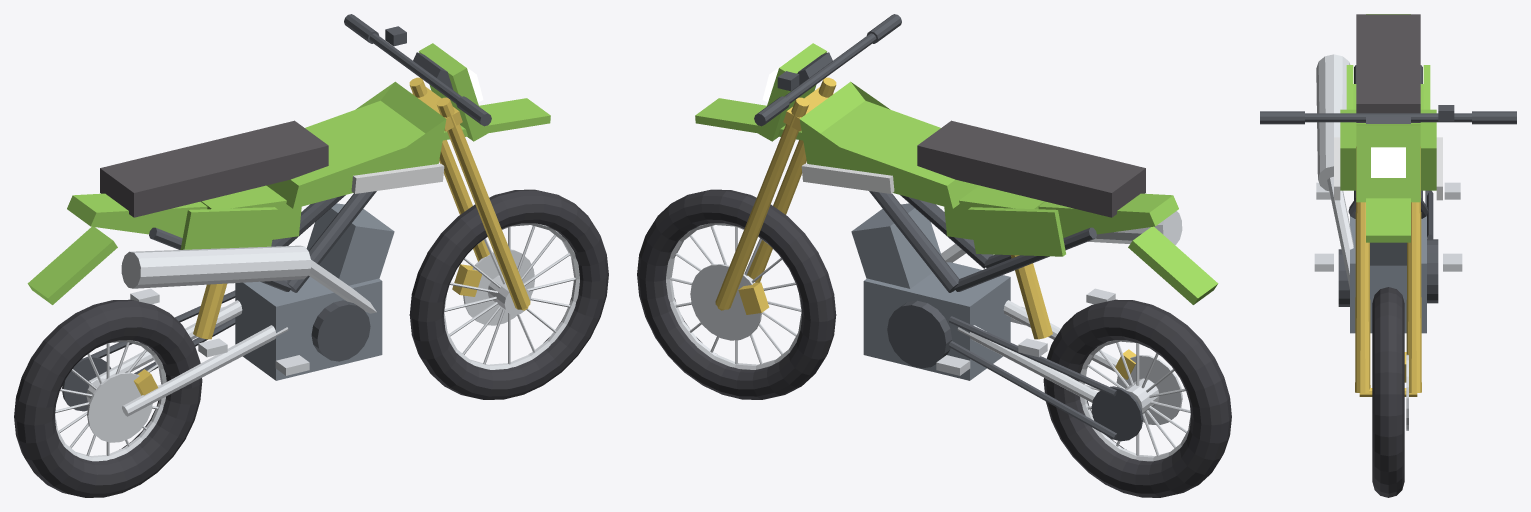
The model's file is kawasaki-klx-150-2019-2026.glb.
The picture shows the model from 3 angles, left to right: view 1: azimuth 30°, elevation 25°; view 2: azimuth 150°, elevation 25°; view 3: azimuth 270°, elevation 25°; orthographic projection. The views are drawn at different scales.
Visible parts, largest first — view 1: Roda_Ban, Bodi_Utama, Jok_Motor, Mesin_Blok, Knalpot, Velg_Roda, Bodi_Depan, Suspensi_Depan, Piringan_Rem, Spakbor, Swing_Arm, Rangka (+7 smaller); view 2: Roda_Ban, Bodi_Utama, Mesin_Blok, Jok_Motor, Velg_Roda, Bodi_Depan, Suspensi_Depan, Piringan_Rem, Rangka, Spakbor, Rantai, Cover_Mesin (+7 smaller); view 3: Roda_Ban, Jok_Motor, Suspensi_Depan, Bodi_Depan, Knalpot, Mesin_Blok, Master_Rem_Stang, Bodi_Utama, Spakbor, Cover_Mesin, Footstep, Lampu_Depan (+3 smaller).
Part boxes in pixels (x1,y1,x2,y2): Roda_Ban: (14, 189, 608, 497); Bodi_Utama: (67, 81, 446, 239); Jok_Motor: (100, 120, 328, 217); Mesin_Blok: (235, 203, 394, 380); Knalpot: (121, 245, 376, 313); Velg_Roda: (55, 223, 579, 461); Bodi_Depan: (180, 43, 487, 249); Suspensi_Depan: (409, 77, 530, 310); Piringan_Rem: (87, 249, 535, 442); Spakbor: (27, 98, 550, 304); Swing_Arm: (88, 300, 288, 416); Rangka: (149, 191, 376, 292); Roda_Ban: (637, 189, 1231, 497); Bodi_Utama: (799, 81, 1178, 239); Mesin_Blok: (851, 203, 1010, 380); Jok_Motor: (917, 120, 1145, 217); Velg_Roda: (666, 223, 1190, 461); Bodi_Depan: (758, 43, 1065, 256); Suspensi_Depan: (715, 77, 836, 310); Piringan_Rem: (690, 264, 1182, 424); Rangka: (869, 191, 1096, 292); Spakbor: (695, 98, 1218, 304); Rantai: (948, 316, 1143, 441); Cover_Mesin: (887, 300, 951, 368); Roda_Ban: (1372, 287, 1404, 497); Jok_Motor: (1356, 14, 1420, 122); Suspensi_Depan: (1355, 146, 1421, 396); Bodi_Depan: (1346, 65, 1430, 202); Knalpot: (1316, 54, 1353, 288); Mesin_Blok: (1350, 216, 1426, 333); Master_Rem_Stang: (1260, 105, 1516, 124); Bodi_Utama: (1340, 14, 1436, 190); Spakbor: (1366, 198, 1410, 242); Cover_Mesin: (1338, 239, 1438, 306); Footstep: (1314, 182, 1462, 271); Lampu_Depan: (1371, 147, 1405, 177).
Bounding box in the file's own units: 2 × 1.18 × 0.8.
